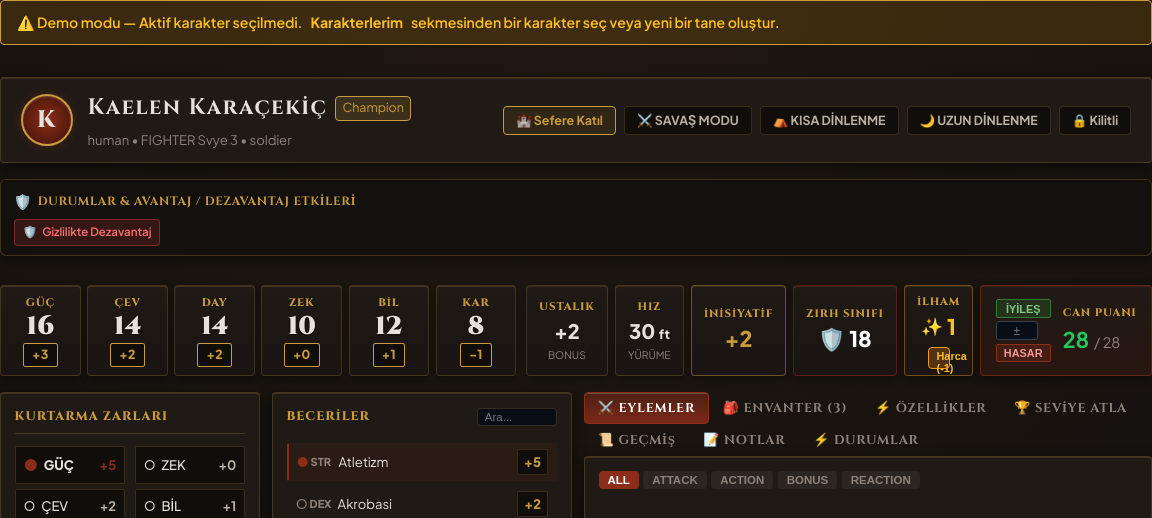
Test case: Modern Karakter Kağıdı ve Ölüm Kurtarma Zarları (Death Saves) Testleri › Karakter Kağıdı stat kilitleme butonu durum değiştirir
The width and height of the screenshot is (1152, 518).
Click the button with id "btn-toggle-stat-lock": (1095, 120) [1059,106,1131,135]
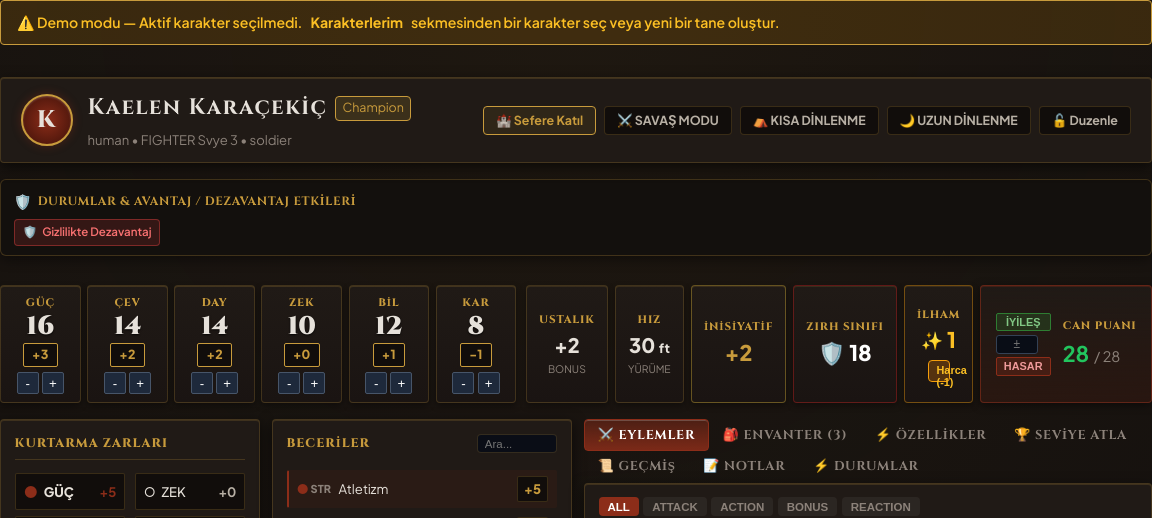
Expected: the button with id "btn-toggle-stat-lock" shows "Duzenle", [1039,106,1131,135]
